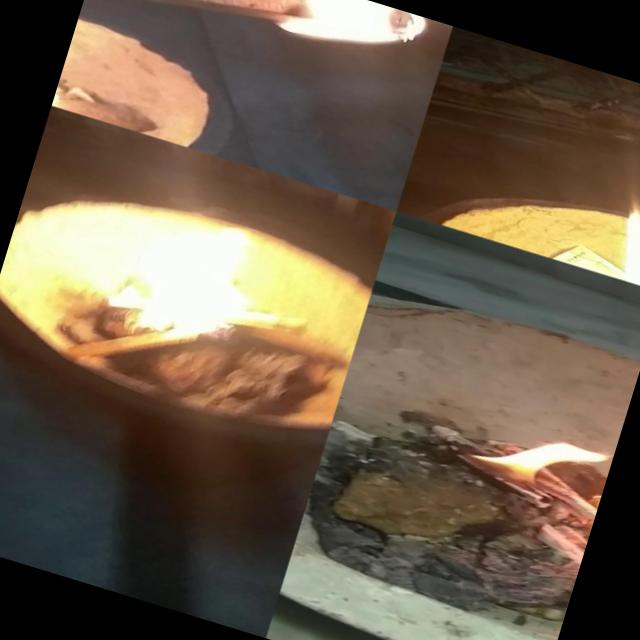fire: (24, 170, 301, 380), (412, 362, 627, 588), (242, 0, 452, 89), (531, 144, 640, 292), (51, 68, 73, 109)
